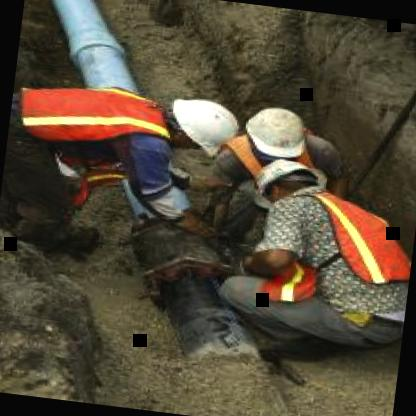helmet: (154, 90, 244, 160), (242, 154, 331, 218), (241, 106, 312, 168)
